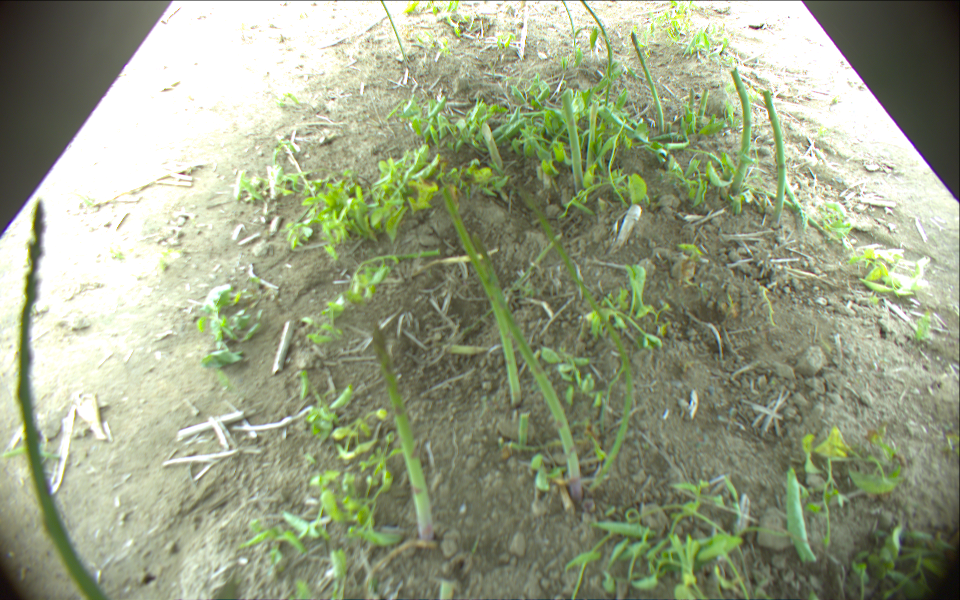aspa: (15, 198, 112, 600), (519, 190, 634, 480), (473, 232, 580, 495), (443, 181, 523, 405), (371, 327, 436, 542), (747, 182, 843, 247), (577, 1, 613, 113), (629, 32, 666, 135), (728, 68, 753, 197), (763, 90, 786, 226), (559, 89, 586, 193), (378, 1, 407, 58), (479, 121, 506, 172), (784, 176, 809, 228), (560, 1, 578, 56), (588, 100, 599, 170), (517, 410, 530, 451), (699, 88, 710, 123), (688, 89, 695, 124)
